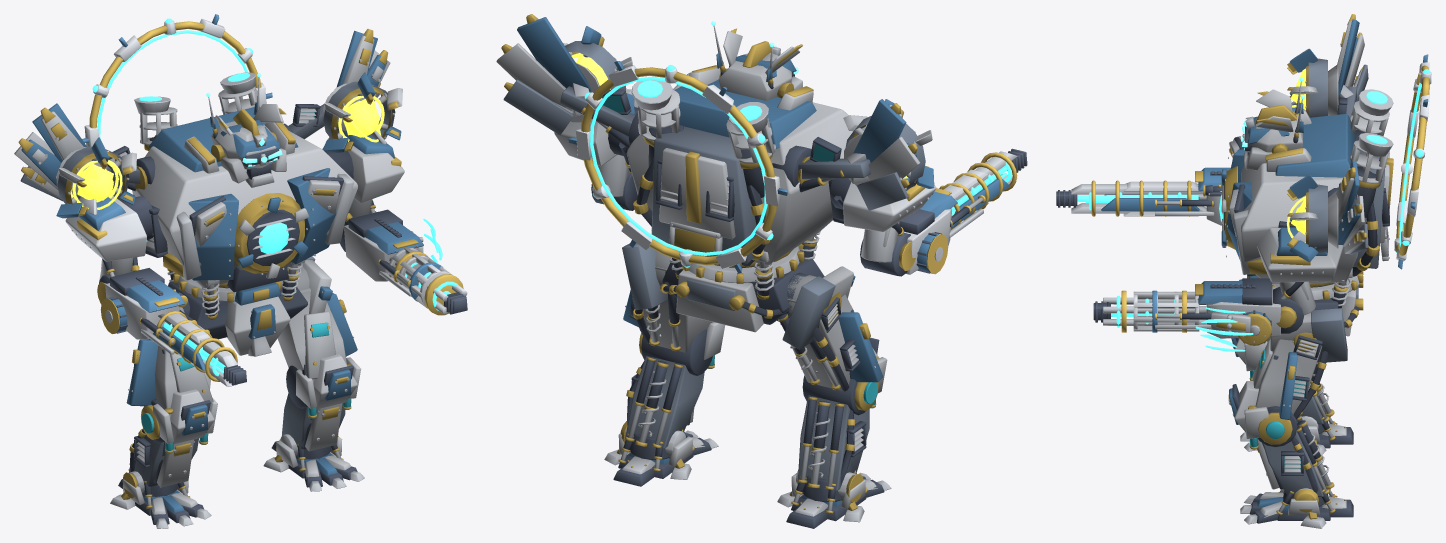
File: aegis_overlord.glb
The picture shows the model from 3 angles, left to right: view 1: azimuth 30°, elevation 25°; view 2: azimuth 150°, elevation 25°; view 3: azimuth 270°, elevation 25°; orthographic projection. The views are drawn at different scales.
Visible parts, largest first — view 1: BodyGroup_ArmorAlloy, RightArm_ArmorAlloy, LeftArm_ArmorAlloy, RightShin_ArmorAlloy, Pelvis_ArmorAlloy, LeftShin_ArmorAlloy, HeadGroup_ArmorAlloy, WingShieldFin_R_ArmorAlloy, LeftThigh_ArmorAlloy, RightThigh_ArmorAlloy, CannonSlide_R_ArmorAlloy, CannonSlide_L_ArmorAlloy (+10 smaller); view 2: BodyGroup_ArmorAlloy, Pelvis_ArmorAlloy, WingShieldFin_L_ArmorAlloy, RightArm_ArmorAlloy, WingShieldFin_R_ArmorAlloy, LeftShin_ArmorAlloy, OrbitRing_0_ArmorAlloy, RightShin_ArmorAlloy, RightThigh_ArmorAlloy, HeadGroup_ArmorAlloy, LeftFoot_ArmorAlloy, RightFoot_ArmorAlloy (+7 smaller); view 3: BodyGroup_ArmorAlloy, LeftArm_ArmorAlloy, LeftShin_ArmorAlloy, CannonSlide_R_ArmorAlloy, LeftThigh_ArmorAlloy, CannonSlide_L_ArmorAlloy, HeadGroup_ArmorAlloy, Pelvis_ArmorAlloy, LeftFoot_ArmorAlloy, OrbitRing_0_ArmorAlloy, WingCore_L_ArmorAlloy, WingCore_R_ArmorAlloy (+9 smaller).
Boxes of the visible parts, box(x1,y1,x2,y2) form: BodyGroup_ArmorAlloy: box(132, 72, 357, 319); RightArm_ArmorAlloy: box(65, 196, 187, 339); LeftArm_ArmorAlloy: box(322, 130, 423, 281); RightShin_ArmorAlloy: box(128, 389, 217, 487); Pelvis_ArmorAlloy: box(168, 256, 332, 356); LeftShin_ArmorAlloy: box(282, 352, 360, 451); HeadGroup_ArmorAlloy: box(208, 77, 286, 187); WingShieldFin_R_ArmorAlloy: box(14, 103, 155, 201); LeftThigh_ArmorAlloy: box(277, 265, 357, 379); RightThigh_ArmorAlloy: box(126, 295, 213, 409); CannonSlide_R_ArmorAlloy: box(139, 309, 246, 386); CannonSlide_L_ArmorAlloy: box(378, 247, 467, 315); BodyGroup_ArmorAlloy: box(626, 65, 852, 299); Pelvis_ArmorAlloy: box(622, 243, 855, 349); WingShieldFin_L_ArmorAlloy: box(496, 14, 639, 148); RightArm_ArmorAlloy: box(830, 178, 957, 276); WingShieldFin_R_ArmorAlloy: box(772, 99, 920, 210); LeftShin_ArmorAlloy: box(625, 322, 725, 448); OrbitRing_0_ArmorAlloy: box(568, 61, 787, 273); RightShin_ArmorAlloy: box(797, 337, 887, 490); RightThigh_ArmorAlloy: box(778, 275, 883, 391); HeadGroup_ArmorAlloy: box(713, 25, 802, 100); LeftFoot_ArmorAlloy: box(604, 421, 718, 486); RightFoot_ArmorAlloy: box(777, 470, 891, 528); BodyGroup_ArmorAlloy: box(1221, 89, 1393, 308); LeftArm_ArmorAlloy: box(1195, 225, 1343, 345); LeftShin_ArmorAlloy: box(1228, 381, 1334, 496); CannonSlide_R_ArmorAlloy: box(1056, 180, 1214, 216); LeftThigh_ArmorAlloy: box(1250, 312, 1328, 419); CannonSlide_L_ArmorAlloy: box(1093, 290, 1211, 332); HeadGroup_ArmorAlloy: box(1242, 81, 1303, 170); Pelvis_ArmorAlloy: box(1239, 279, 1363, 362); LeftFoot_ArmorAlloy: box(1240, 478, 1353, 528); OrbitRing_0_ArmorAlloy: box(1394, 54, 1431, 269); WingCore_L_ArmorAlloy: box(1287, 175, 1338, 262); WingCore_R_ArmorAlloy: box(1287, 48, 1338, 117).
Size of the model in its own units: 4.4 by 4.68 by 3.92.
